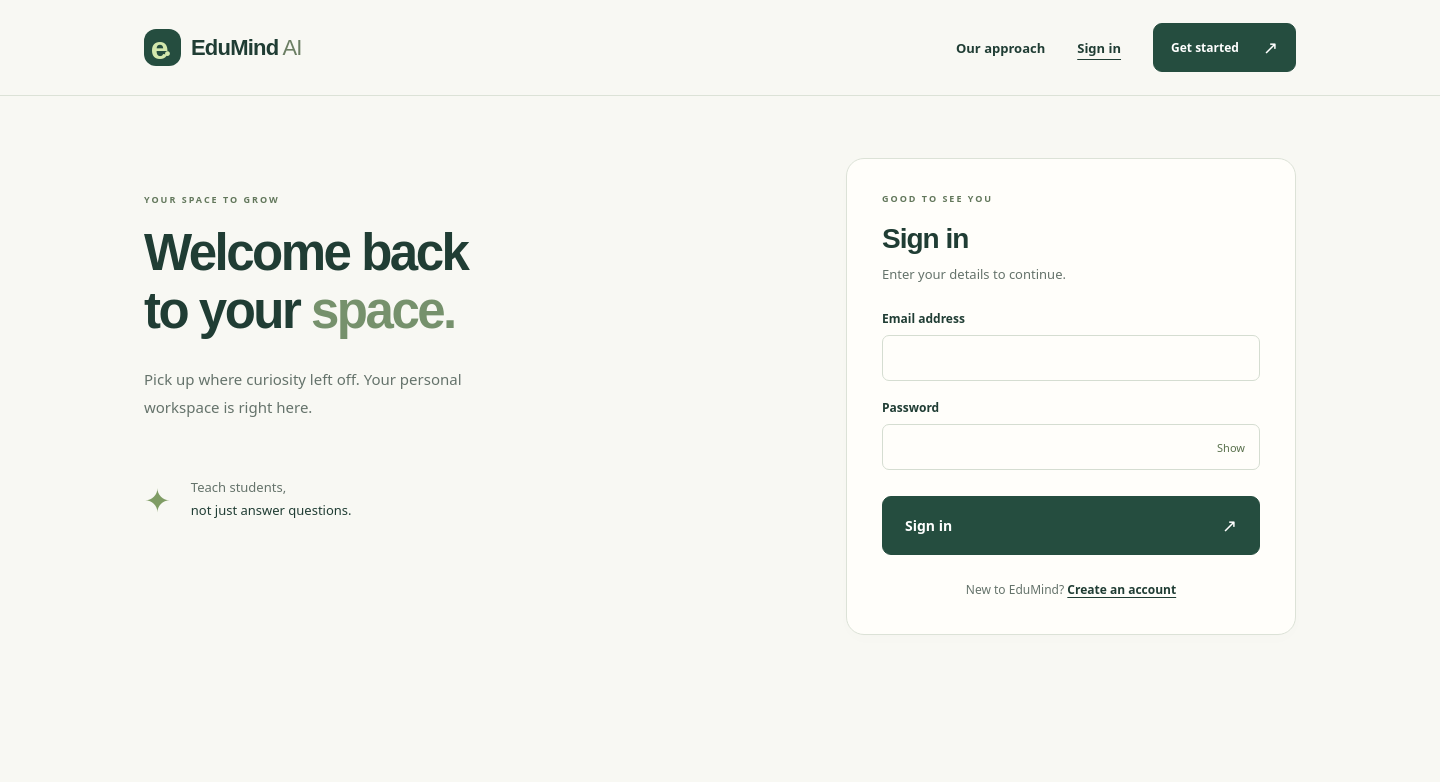
Test: prevents duplicate submissions while a login request is pending
Type "learner@example.com" into the field labelled "Email address" at (1071, 358), box [882,336,1260,382]
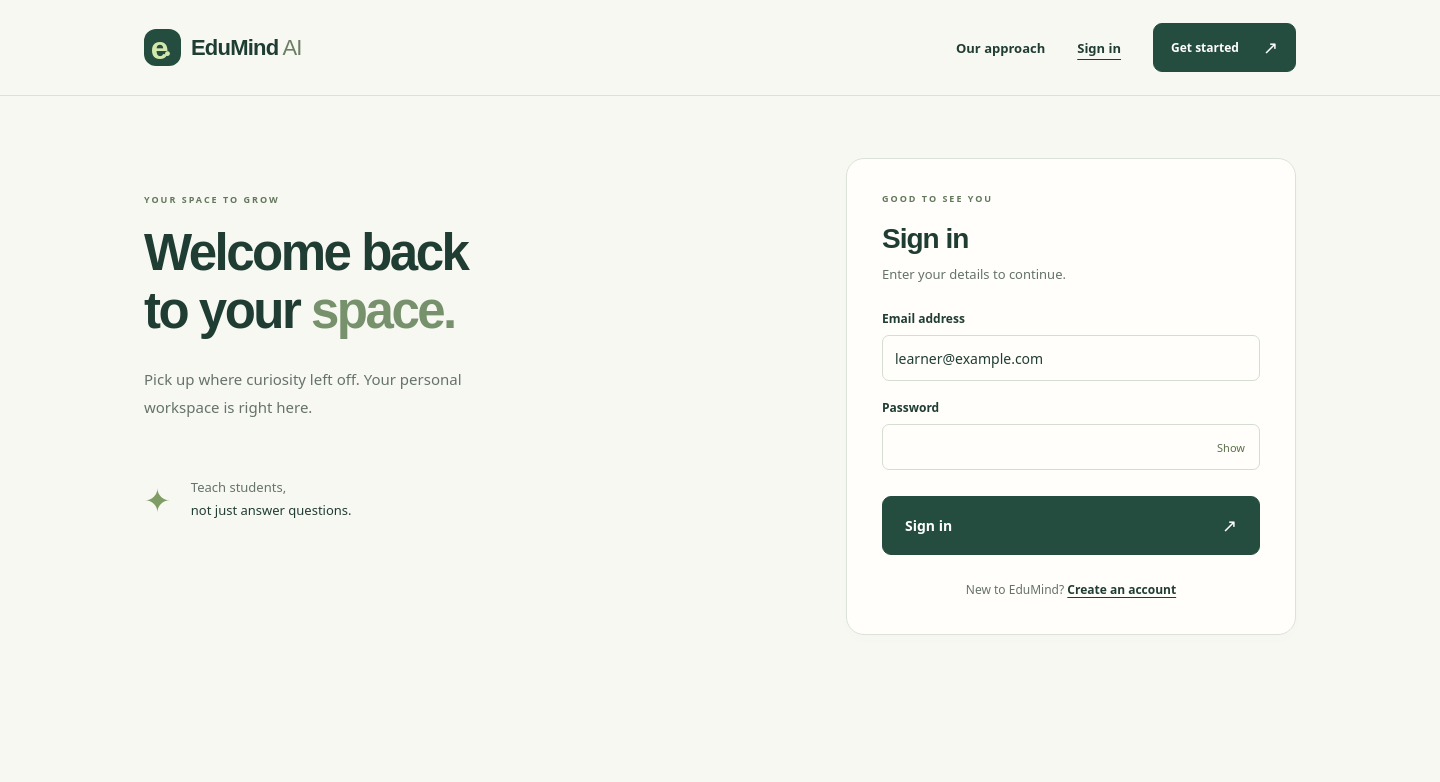
Type "A long learning passphrase!" into the password field labelled "Password" at (1071, 448), box [882,424,1260,470]
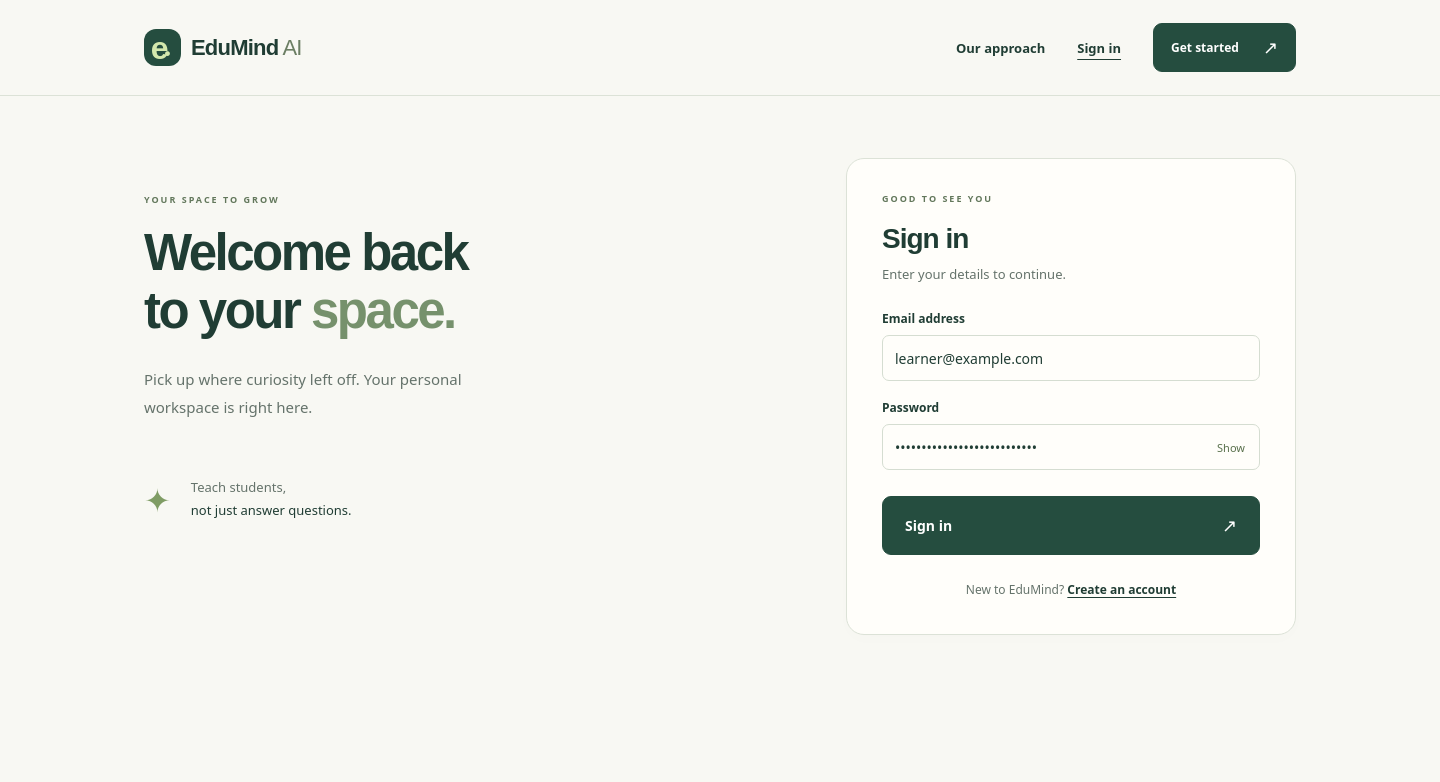
Submit the form "Sign in", box [882,310,1260,556]
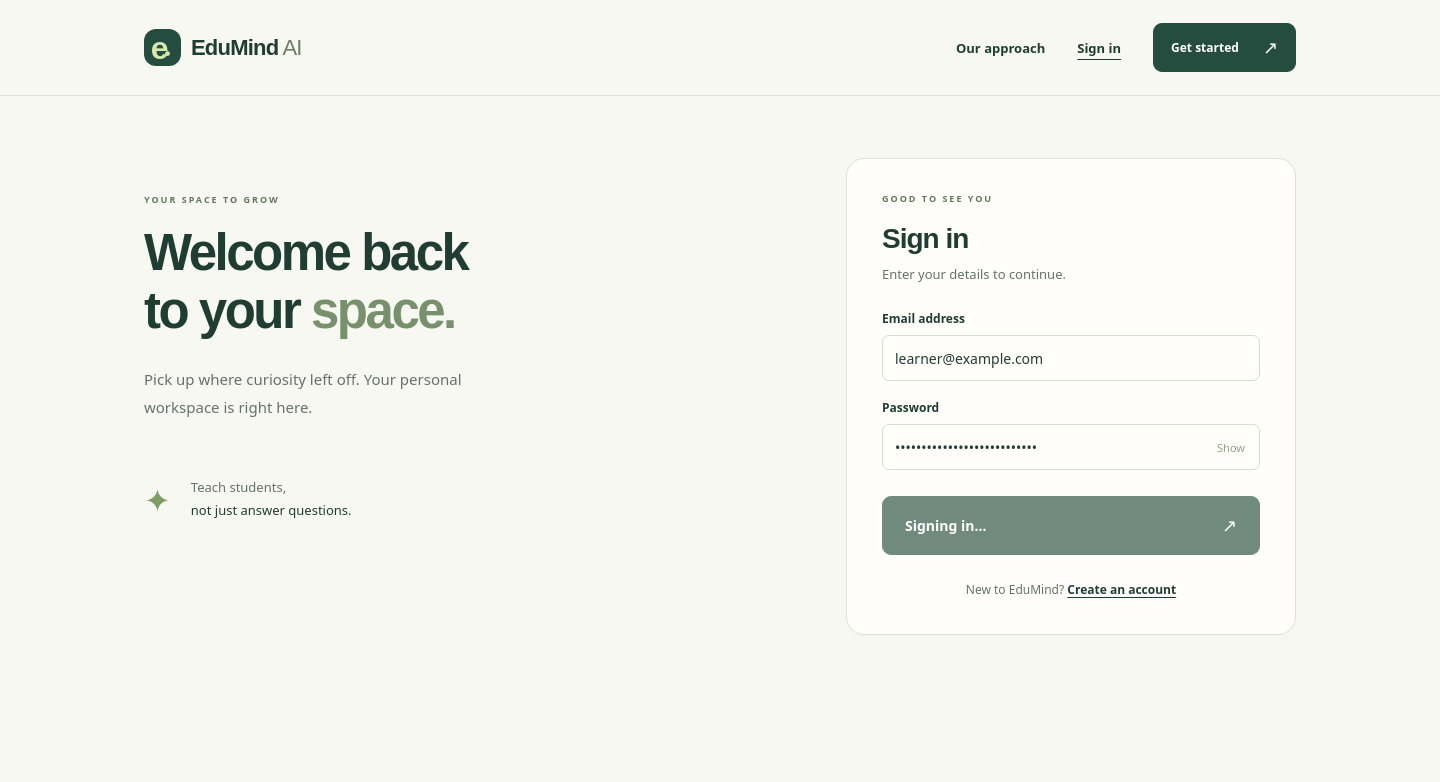
Submit the form named "Sign in", box [882,310,1260,556]
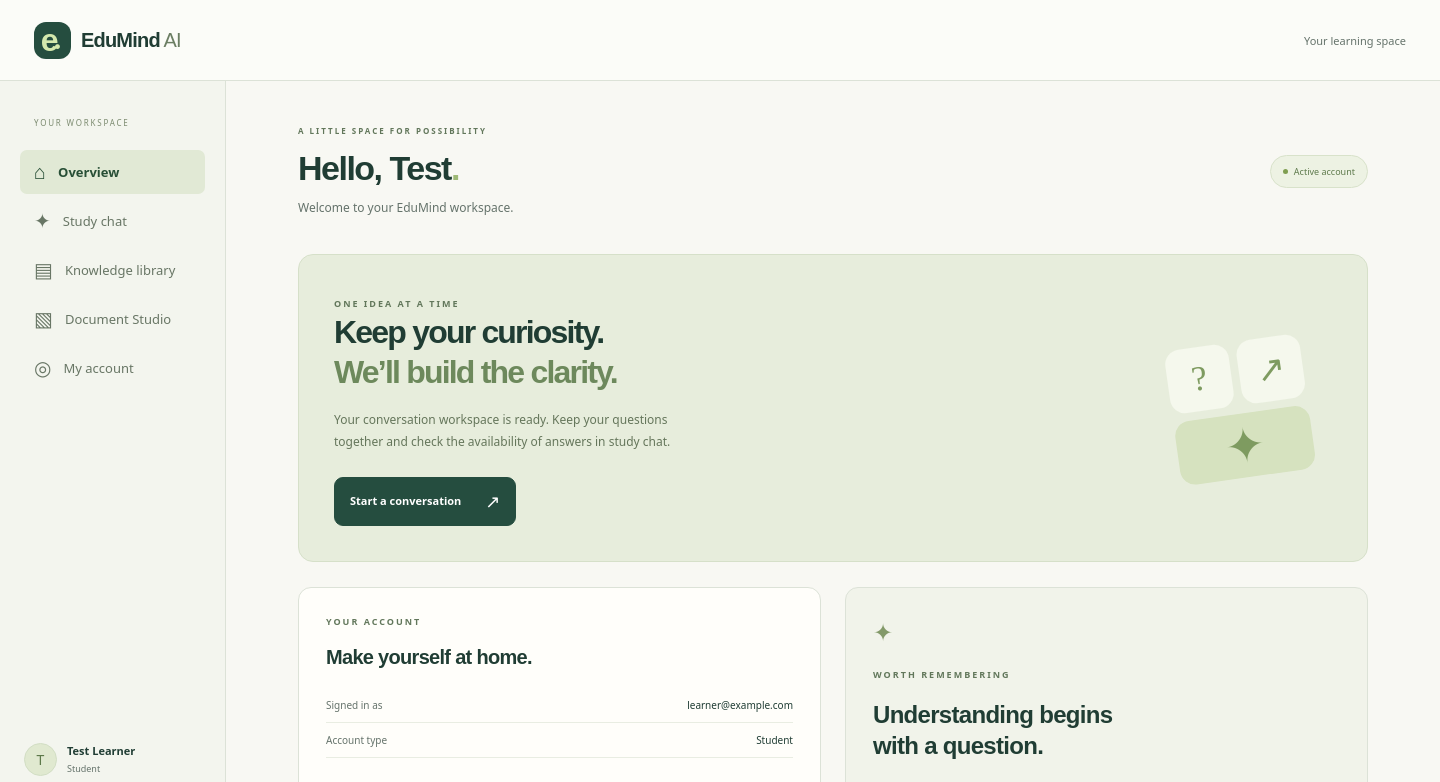
Check: the heading "Hello, Test." is shown, box [298,149,459,187]
